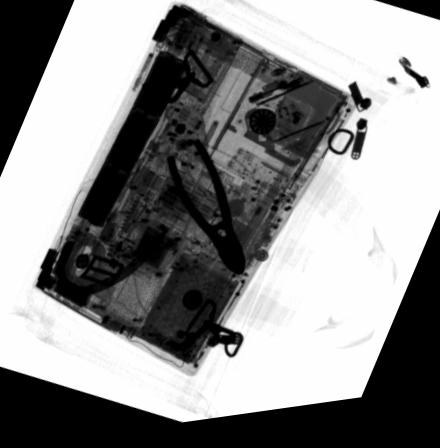Pliers: (165, 144, 247, 283)
